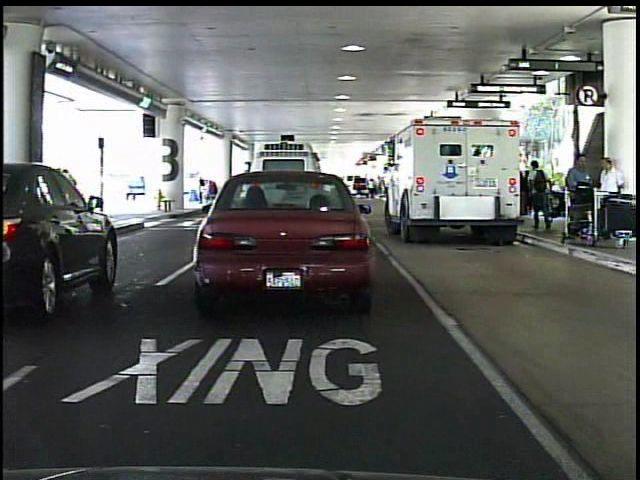person: (58, 167, 80, 229)
